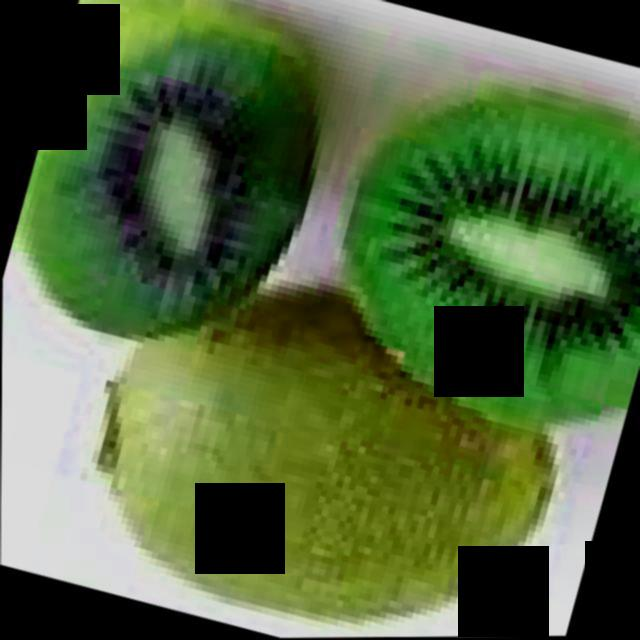kiwi: (57, 243, 590, 640)
